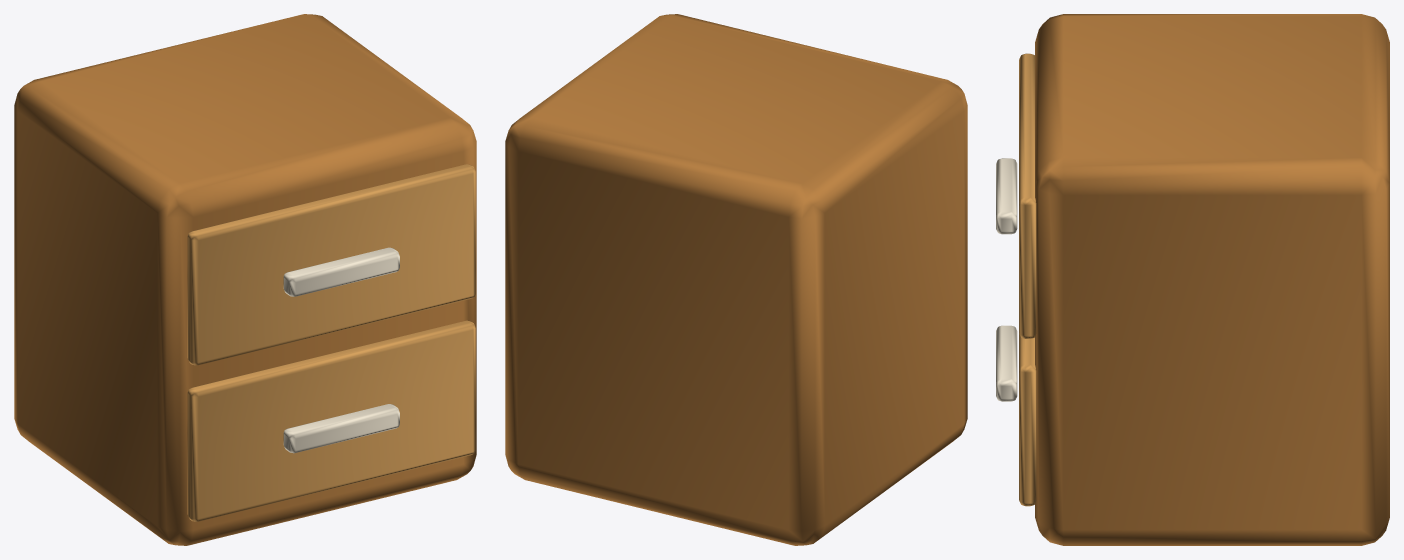
Rendered from shelter-bedside-cabinet.glb.
3 renders of one model, left to right at view 1: azimuth 30°, elevation 25°; view 2: azimuth 150°, elevation 25°; view 3: azimuth 270°, elevation 25°, orthographic. The views are drawn at different scales.
Parts seen in each view (by area): view 1: interior_1_wood.001, interior_1_woodLight, interior_1_ivory.001; view 2: interior_1_wood.001; view 3: interior_1_wood.001, interior_1_woodLight, interior_1_ivory.001.
Part boxes in pixels (<box>): interior_1_wood.001: <box>14,14,476,545</box>; interior_1_woodLight: <box>187,164,475,521</box>; interior_1_ivory.001: <box>283,247,399,453</box>; interior_1_wood.001: <box>505,14,967,545</box>; interior_1_wood.001: <box>1035,14,1389,545</box>; interior_1_woodLight: <box>1019,53,1036,506</box>; interior_1_ivory.001: <box>996,158,1017,401</box>.
Size of the model in its own units: 0.55 by 0.6 by 0.555.
